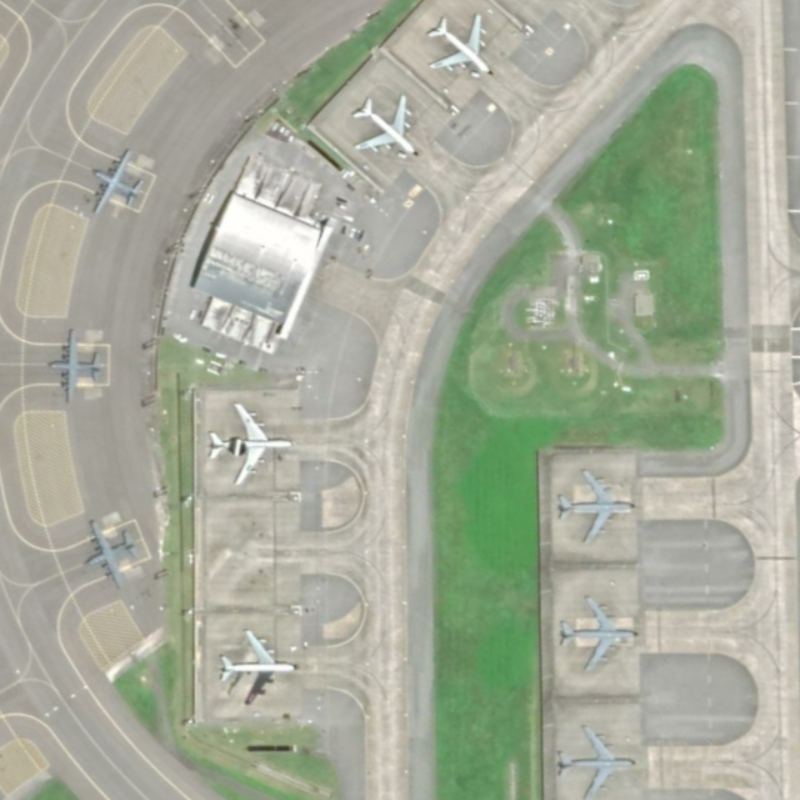A11: (344, 89, 426, 166), (421, 6, 500, 84)
A14: (551, 461, 640, 551), (556, 589, 643, 675), (549, 718, 638, 800)
A2: (44, 320, 107, 411), (80, 512, 144, 592), (81, 144, 151, 216)
A7: (199, 395, 298, 492), (212, 623, 303, 711)
